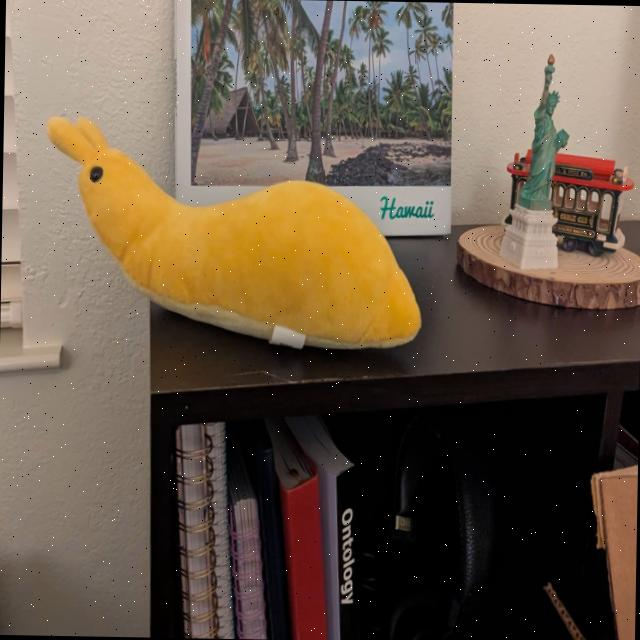banana-slug-toy: (38, 91, 436, 369)
